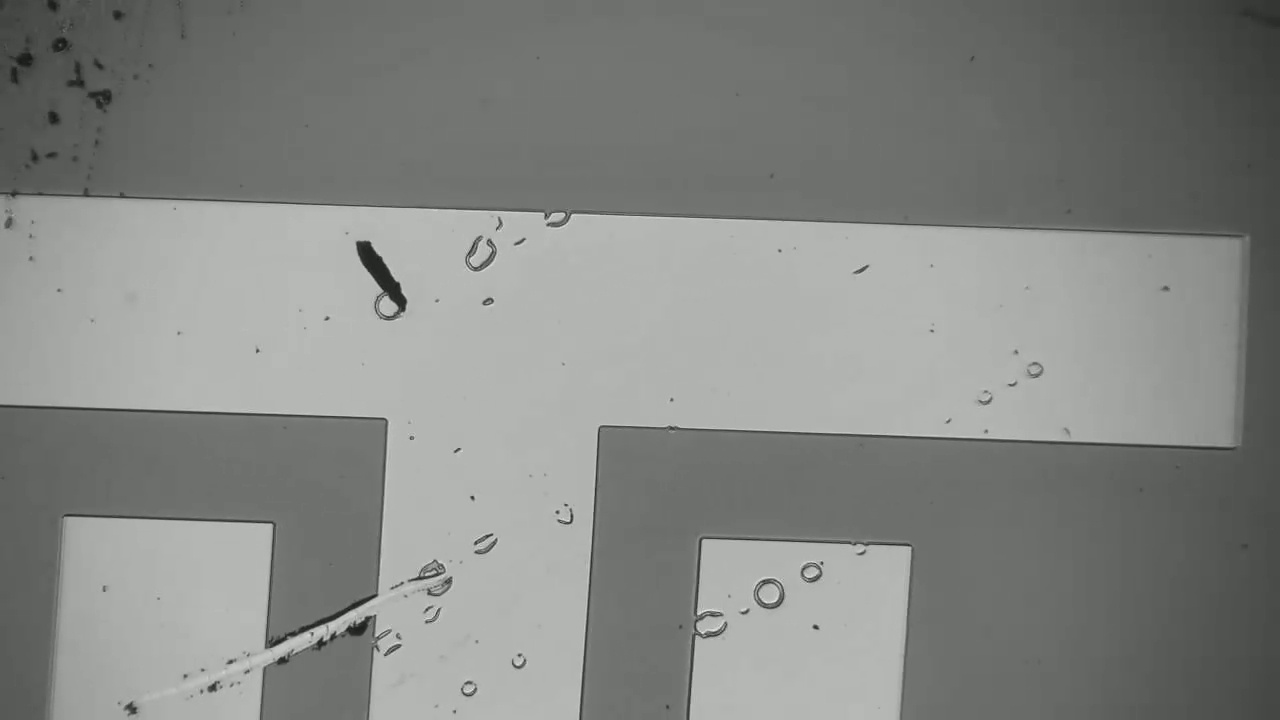Short_circuit: (209, 576, 398, 691)
